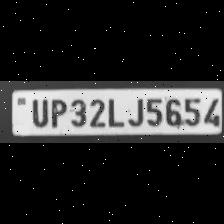2: (86, 96, 106, 128)
3: (68, 96, 86, 127)
4: (202, 95, 222, 127)
5: (143, 95, 163, 127), (182, 94, 200, 125)
6: (162, 96, 182, 127)
J: (124, 95, 144, 127)
L: (104, 95, 124, 127)
P: (47, 96, 66, 128)
U: (28, 97, 48, 127)
